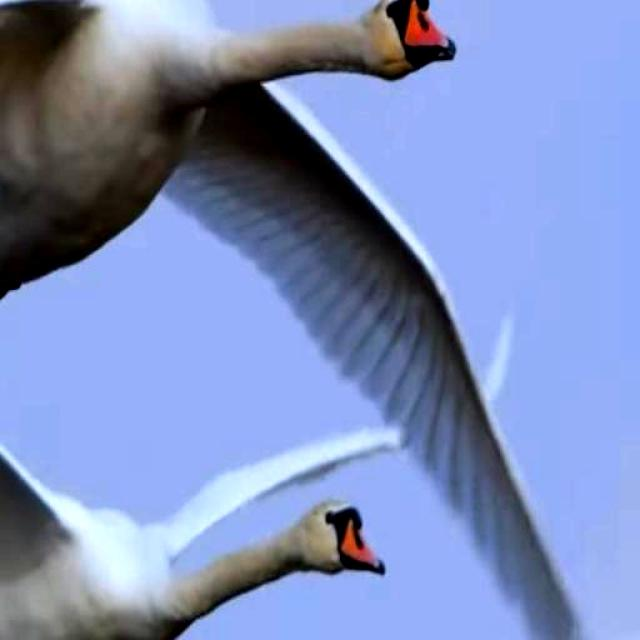airplane: (0, 264, 515, 640), (0, 0, 525, 349)
